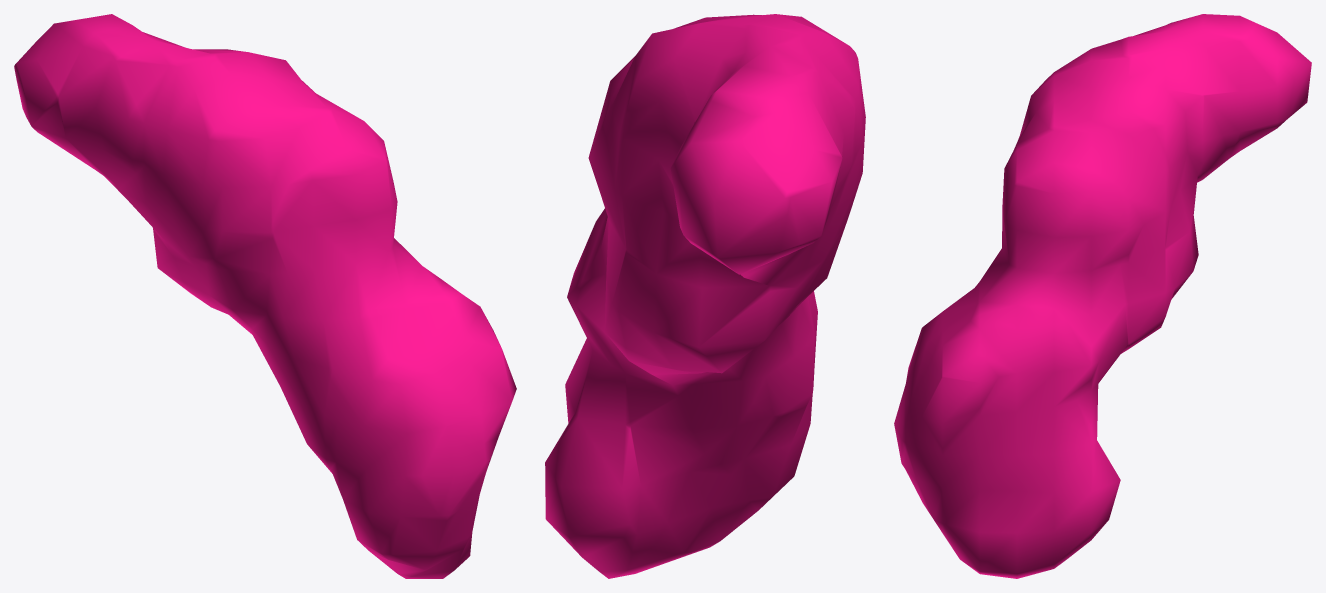
Rendered from Vesicle_5AAlignedMonomer3.fbx.
The picture shows the model from 3 angles, left to right: view 1: azimuth 30°, elevation 25°; view 2: azimuth 150°, elevation 25°; view 3: azimuth 270°, elevation 25°; orthographic projection. The views are drawn at different scales.
Visible parts, largest first — view 1: vesicle_MeshVes5Mesh; view 2: vesicle_MeshVes5Mesh; view 3: vesicle_MeshVes5Mesh.
Part boxes in pixels (left/top/right/bottom): vesicle_MeshVes5Mesh: left=14, top=14, right=516, bottom=578; vesicle_MeshVes5Mesh: left=545, top=14, right=865, bottom=578; vesicle_MeshVes5Mesh: left=894, top=14, right=1311, bottom=578.
Size of the model in its own units: 41.88 by 62.68 by 50.94.
